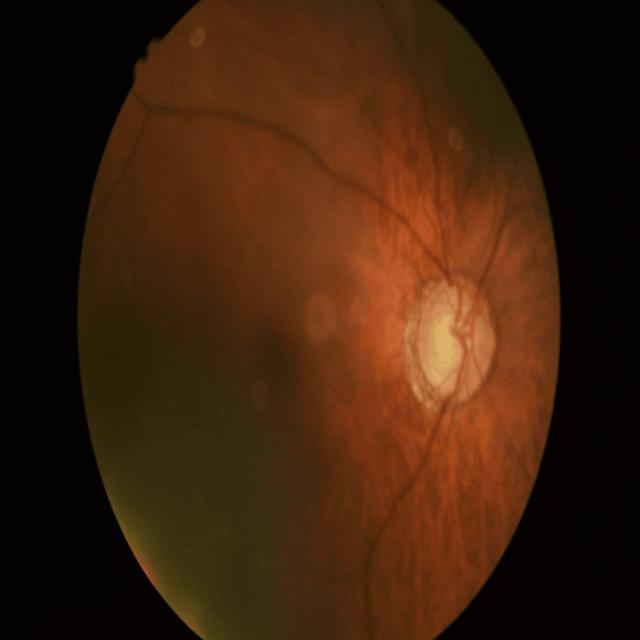cup: (428, 291, 482, 385)
disk: (417, 274, 498, 404)
